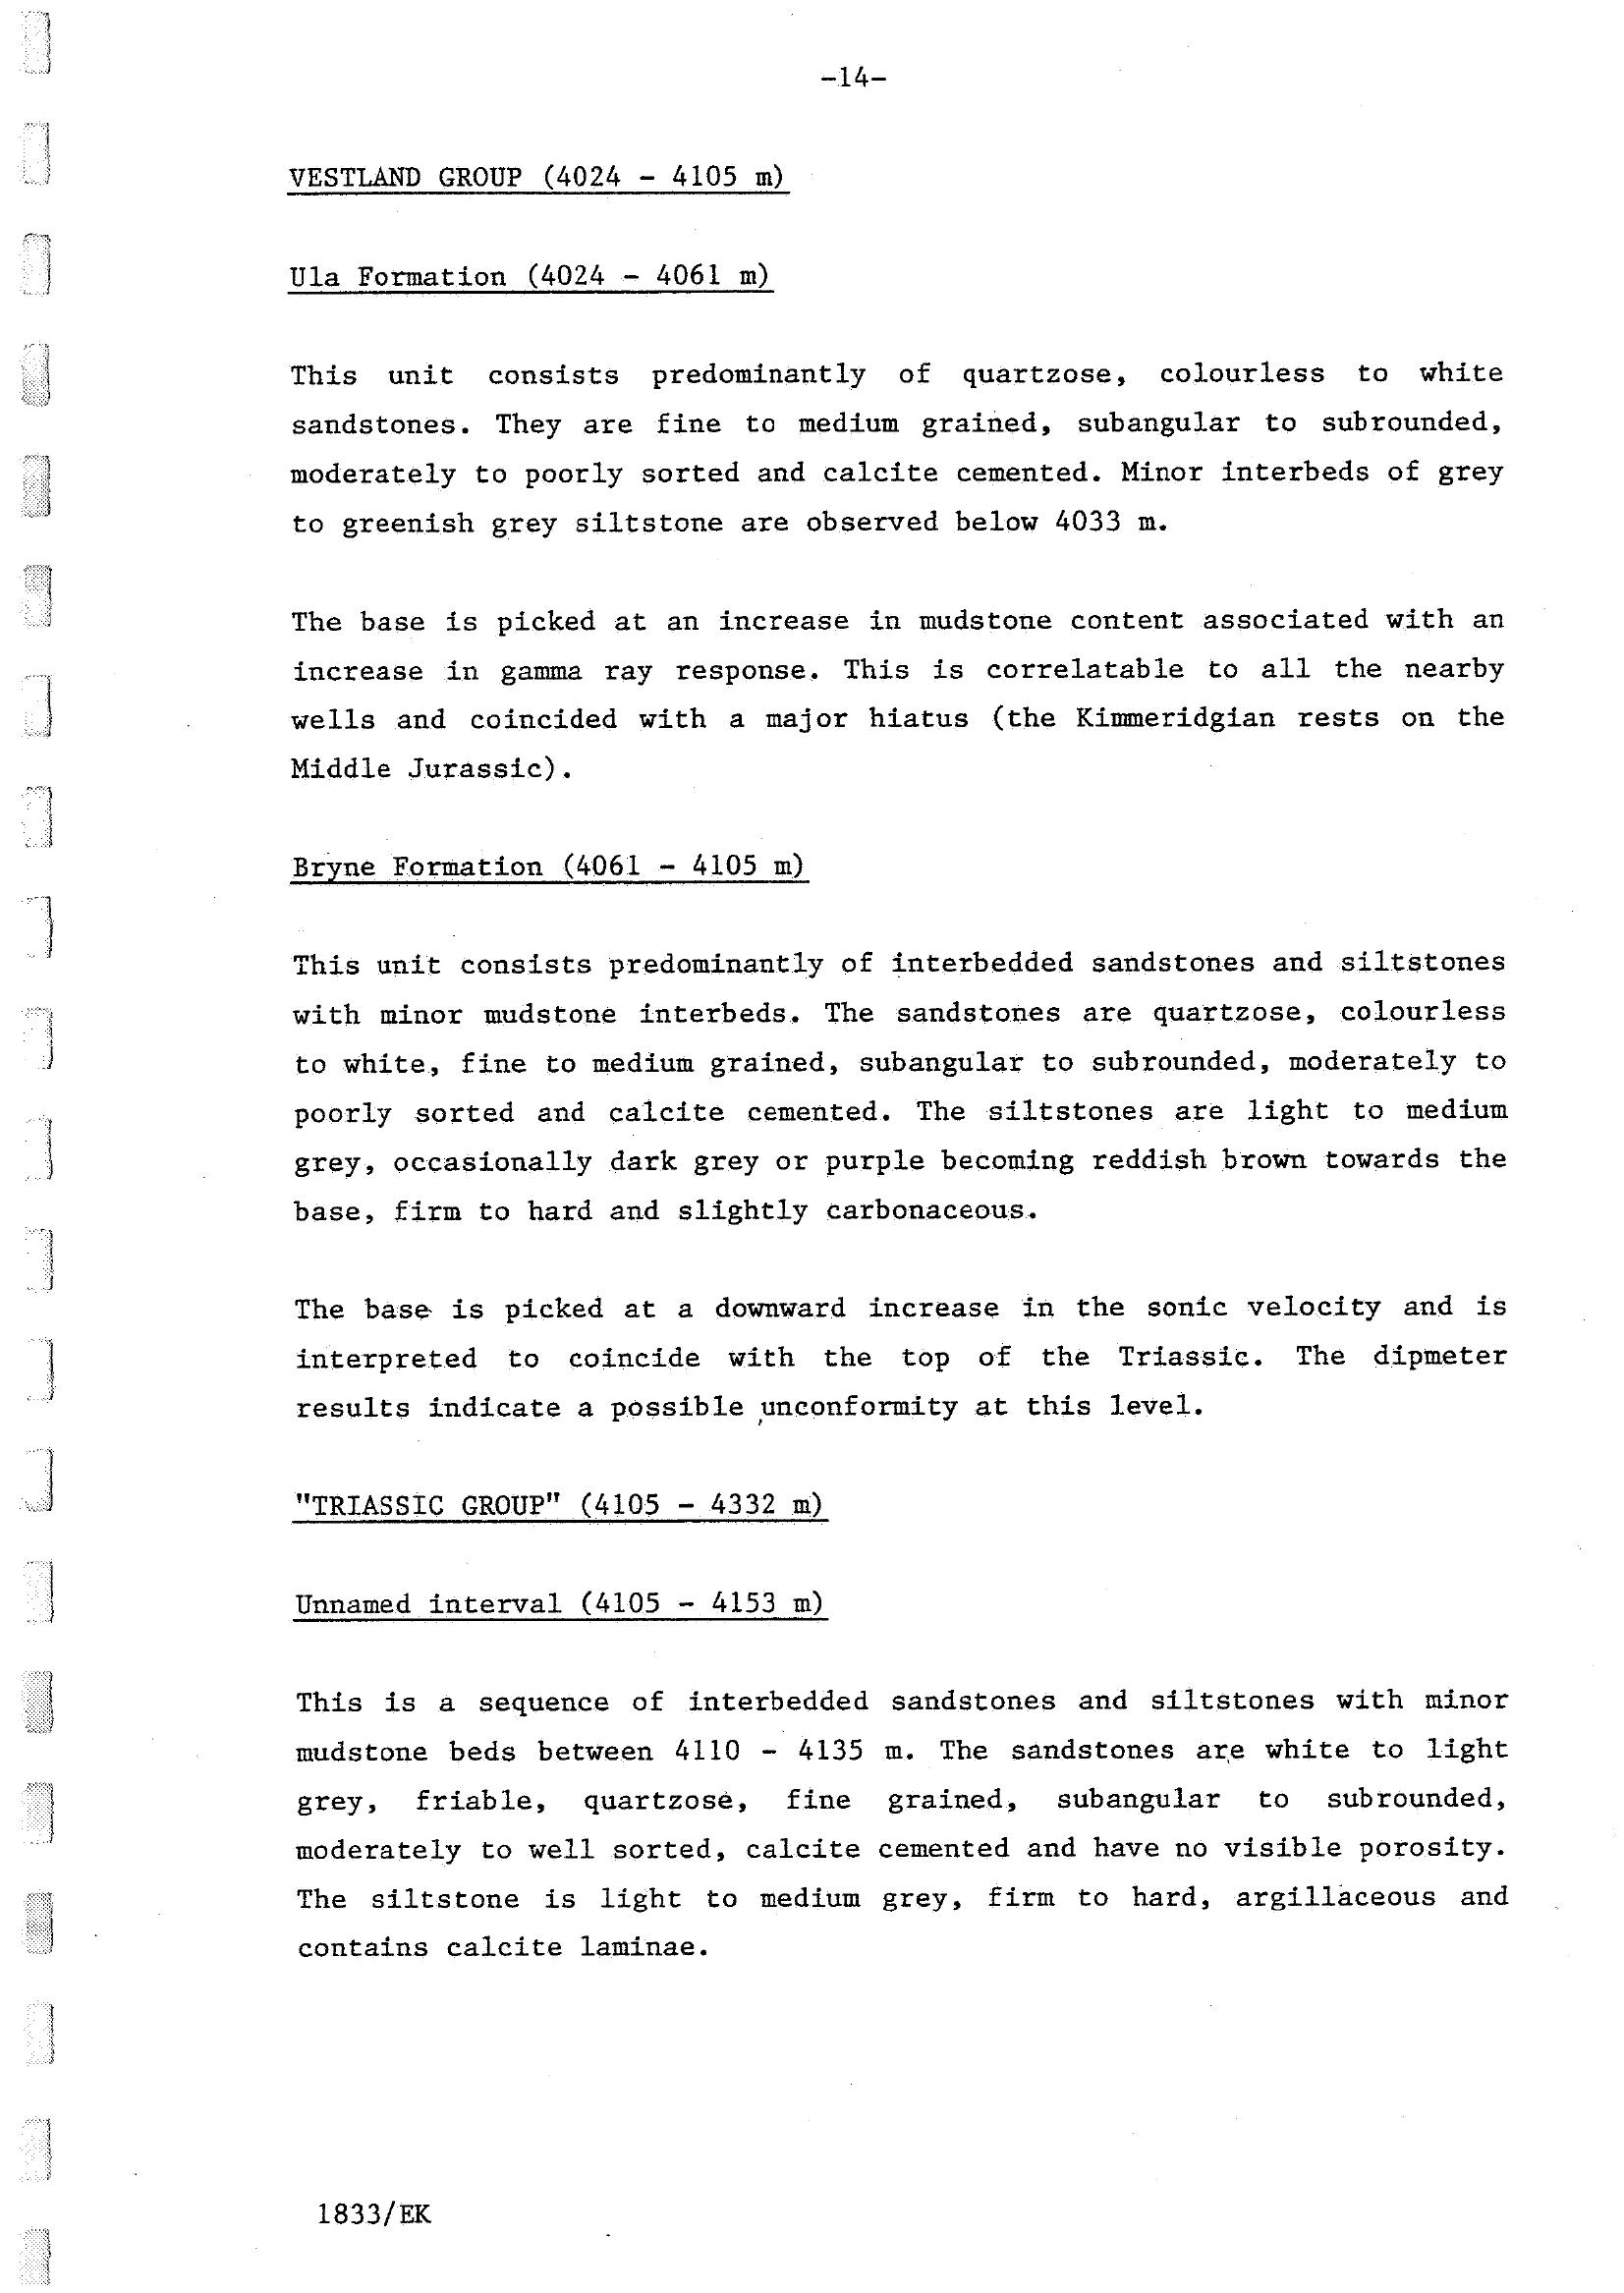text: (246, 112, 1571, 2021)
